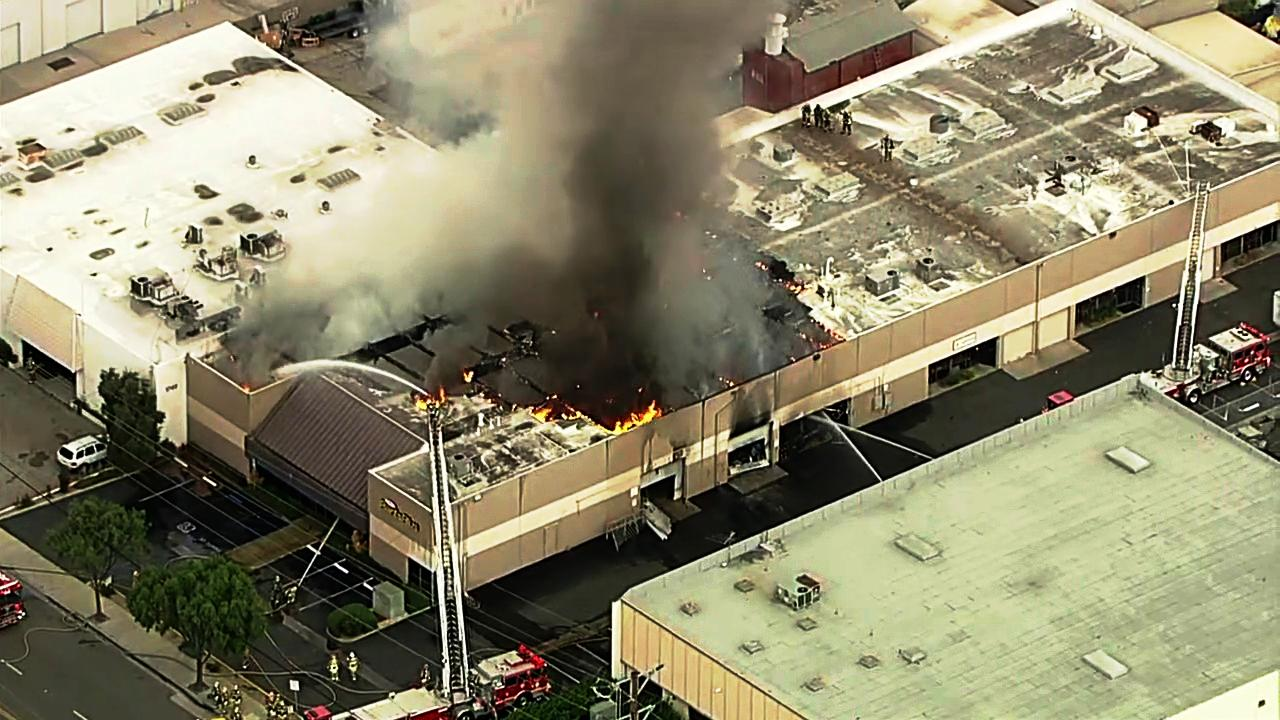smoke: (537, 0, 675, 322)
